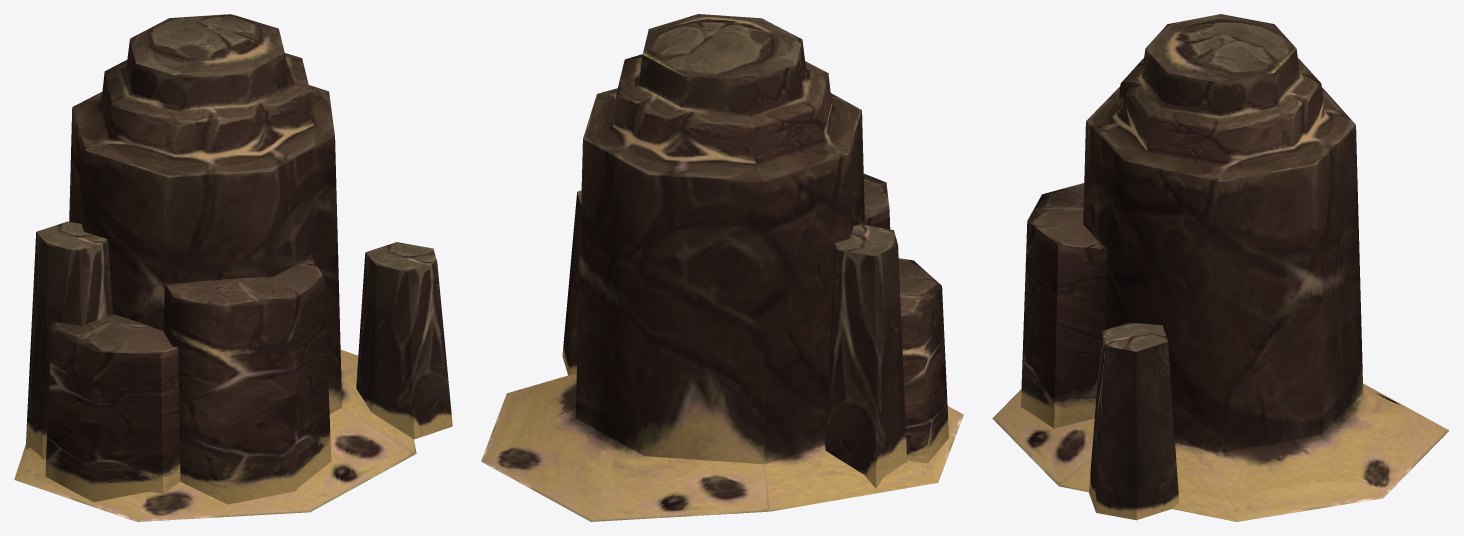
Rendered from common_yewai_shamoshanshi06.FBX.
The picture shows the model from 3 angles, left to right: view 1: azimuth 30°, elevation 25°; view 2: azimuth 150°, elevation 25°; view 3: azimuth 270°, elevation 25°; orthographic projection. The views are drawn at different scales.
Visible parts, largest first — view 1: common_yewai_shamoshanshi06; view 2: common_yewai_shamoshanshi06; view 3: common_yewai_shamoshanshi06.
Part boxes in pixels (bbox=[...]): common_yewai_shamoshanshi06: bbox=[14, 14, 452, 521]; common_yewai_shamoshanshi06: bbox=[481, 14, 963, 521]; common_yewai_shamoshanshi06: bbox=[992, 14, 1449, 521].
Size of the model in its own units: 5.54 by 5.5 by 5.21.
